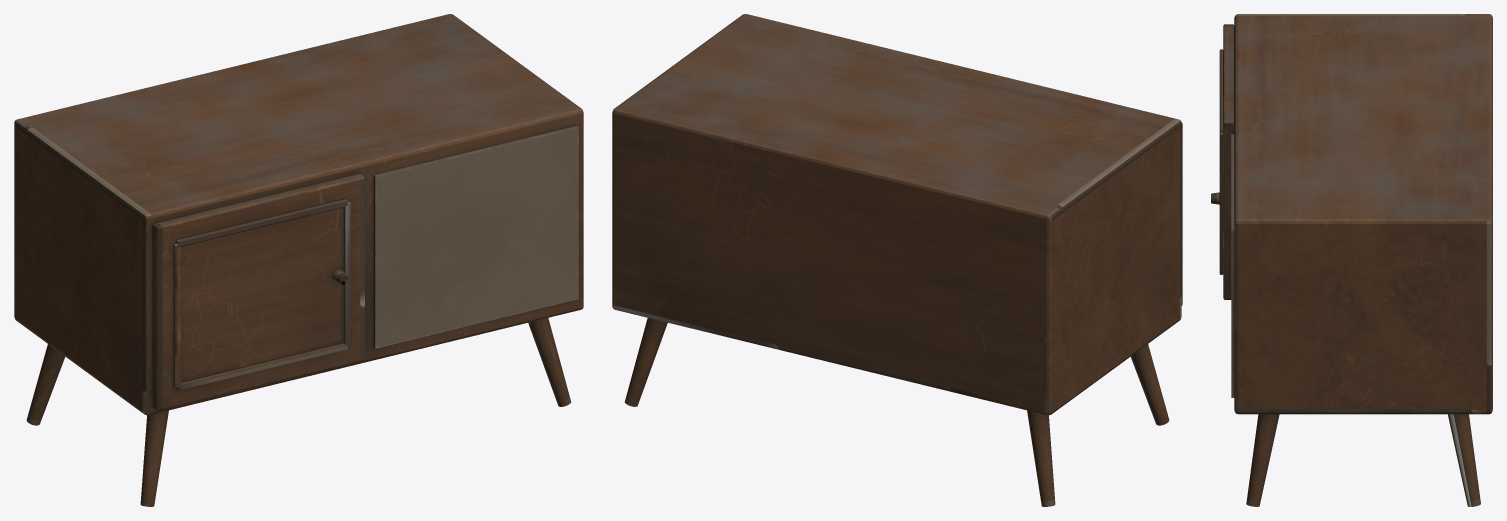
The model's file is TV_Stand.fbx.
3 views of the same model, side by side, from view 1: azimuth 30°, elevation 25°; view 2: azimuth 150°, elevation 25°; view 3: azimuth 270°, elevation 25° (orthographic). The views are drawn at different scales.
Parts seen in each view (by area): view 1: TV_Stand_Mesh; view 2: TV_Stand_Mesh; view 3: TV_Stand_Mesh.
Boxes of the visible parts, left/top/right/bottom form: TV_Stand_Mesh: left=14, top=14, right=583, bottom=506; TV_Stand_Mesh: left=612, top=14, right=1182, bottom=506; TV_Stand_Mesh: left=1211, top=14, right=1492, bottom=506.
Bounding box in the file's own units: 0.8 × 0.5231 × 0.458.
